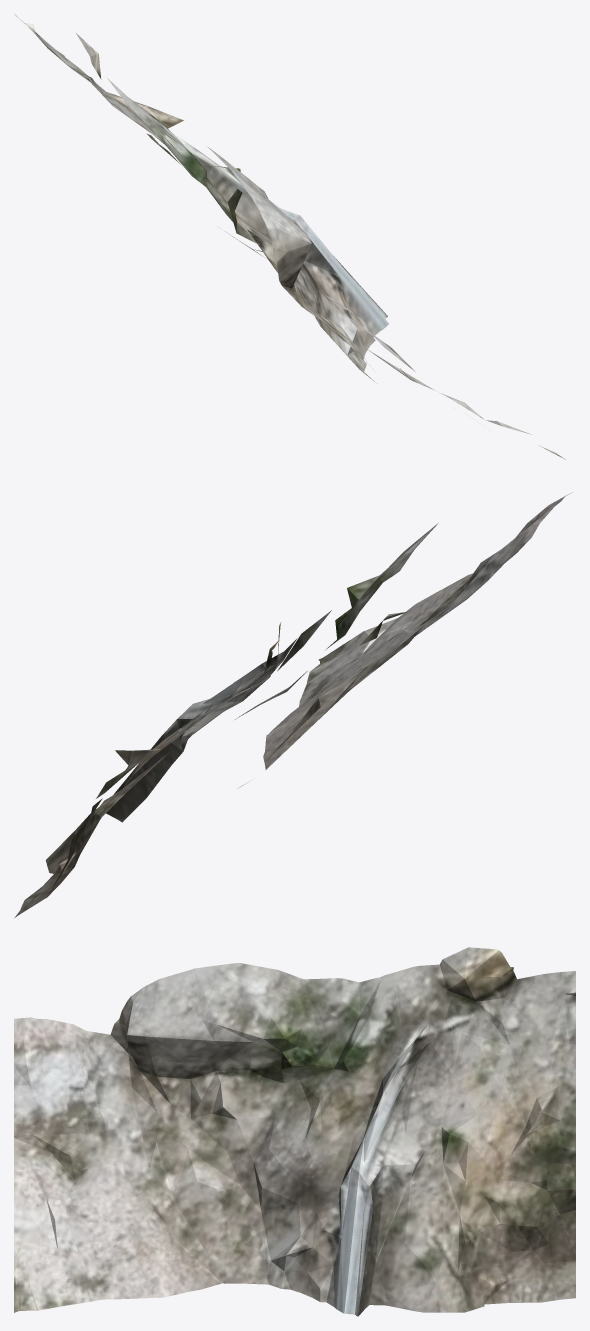
3 views of the same model, one above another, from view 1: azimuth 30°, elevation 25°; view 2: azimuth 150°, elevation 25°; view 3: azimuth 270°, elevation 25° (orthographic). The views are drawn at different scales.
Bounding box in the file's own units: 2.66 × 3.04 × 5.9.
Materials: 2 (2 with a texture image).
